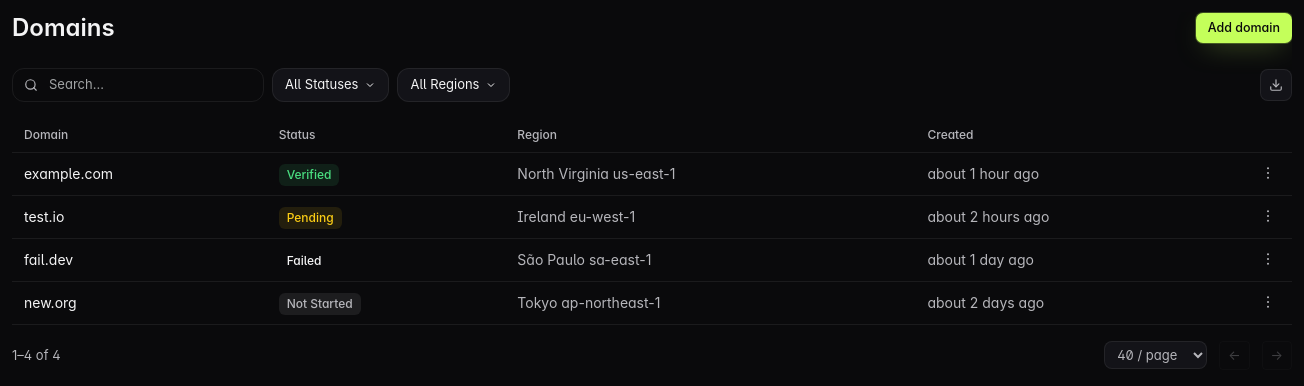
it: Domains Page › filters domains by status
The image size is (1304, 386).
# Click the status filter button
What coordinates should you click on to do the following:
click the button "All Statuses"
I would click on:
 (331, 85)
Its box is [272,68,390,102].
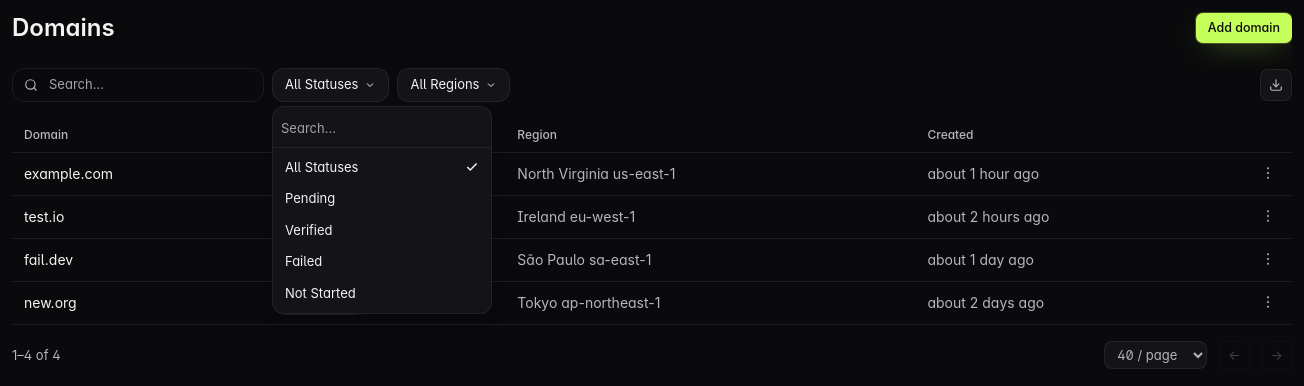
Now the button "Verified" is shown
What coordinates should you click on to do the following:
click the button "Verified"
I would click on:
 (382, 230)
Its box is [273,214,491,246].
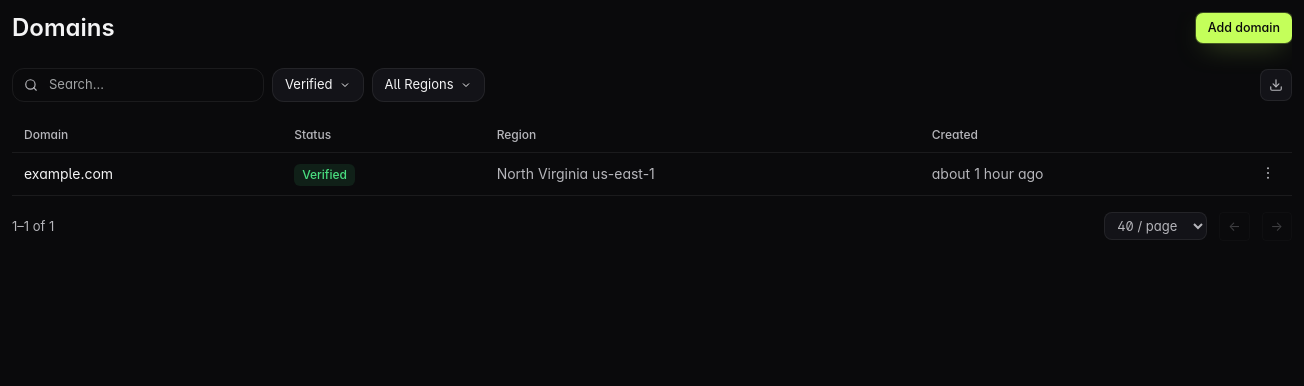
Expected: the link "example.com" is shown, [24,165,113,182]
Now the link "test.io" is gone
